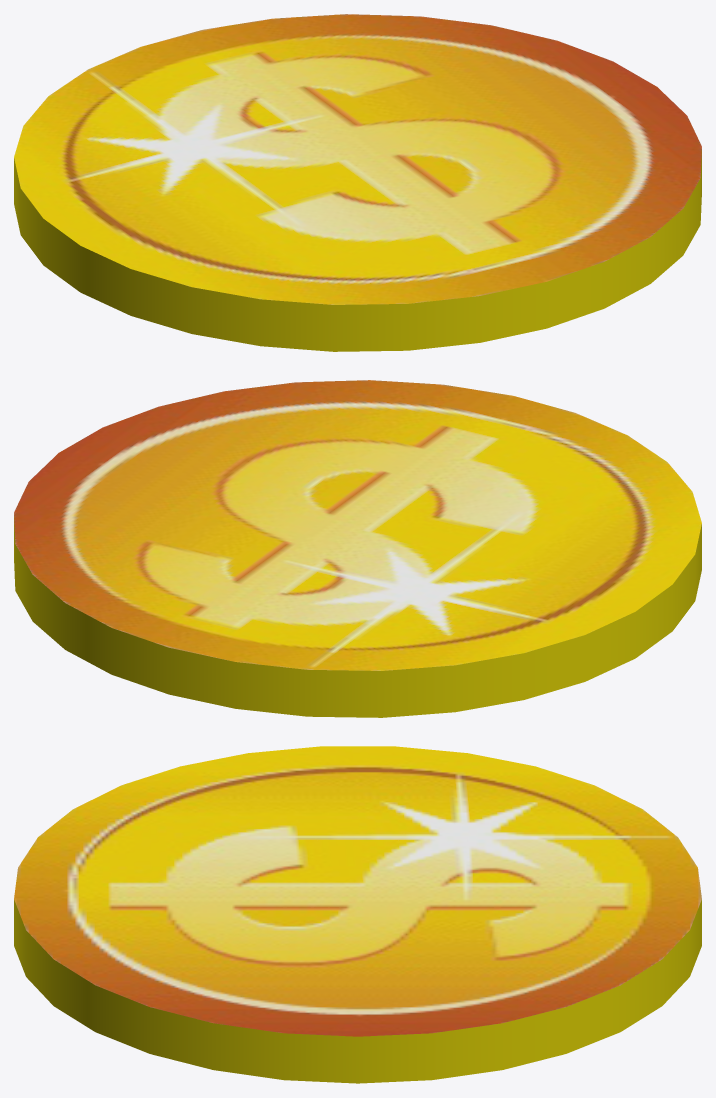
The model's file is coin.fbx.
3 renders of one model, top to bottom at view 1: azimuth 30°, elevation 25°; view 2: azimuth 150°, elevation 25°; view 3: azimuth 270°, elevation 25°, orthographic.
Parts seen in each view (by area): view 1: pCylinder1; view 2: pCylinder1; view 3: pCylinder1.
Boxes of the visible parts, x1=… form: pCylinder1: x1=14, y1=14, x2=701, y2=351; pCylinder1: x1=14, y1=380, x2=701, y2=717; pCylinder1: x1=14, y1=746, x2=701, y2=1083.
Size of the model in its own units: 16.26 by 1.22 by 16.28.
2 materials, 1 textured.
